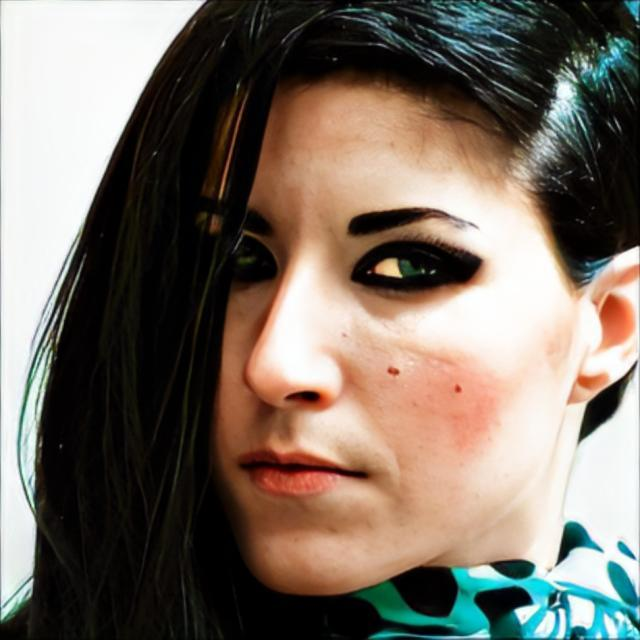anger: (206, 81, 576, 586)
